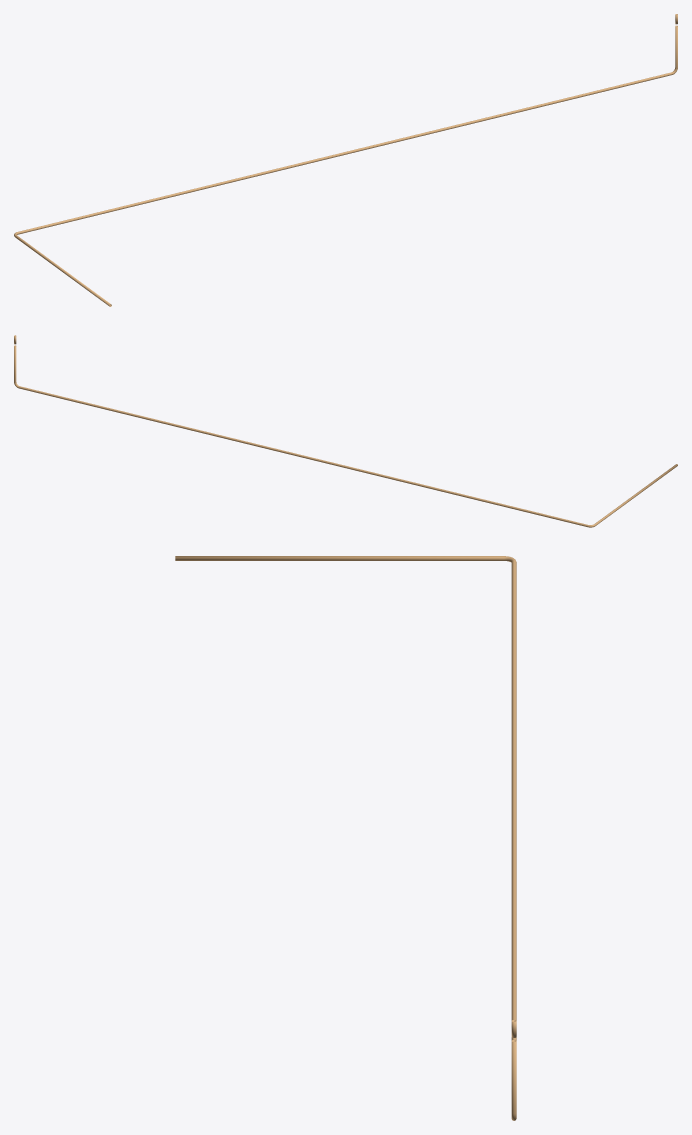
The model's file is slab_pipes_supply__water-city_filter_and_plumbing-copper_and_softener-yes.glb.
3 renders of one model, top to bottom at view 1: azimuth 30°, elevation 25°; view 2: azimuth 150°, elevation 25°; view 3: azimuth 270°, elevation 25°, orthographic. The views are drawn at different scales.
Visible parts, largest first — view 1: pipe_supply_house_entry__copper.901; view 2: pipe_supply_house_entry__copper.901; view 3: pipe_supply_house_entry__copper.901.
Boxes of the visible parts, left/top/right/bottom form: pipe_supply_house_entry__copper.901: left=14, top=14, right=677, bottom=306; pipe_supply_house_entry__copper.901: left=14, top=335, right=677, bottom=527; pipe_supply_house_entry__copper.901: left=175, top=556, right=516, bottom=1120.
Bounding box in the file's own units: 7.77 × 0.6599 × 1.98.
